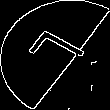L_SE: (20, 28, 90, 82)
